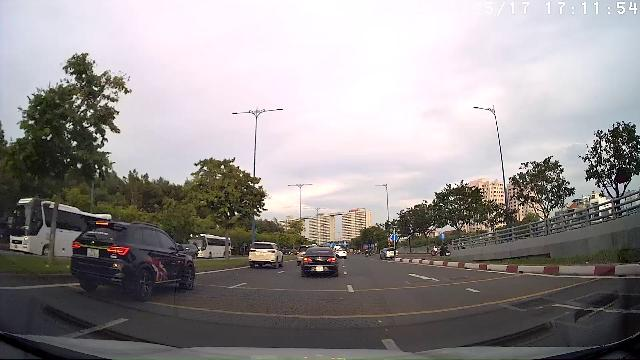301a-cac-xe-chi-duoc-di-thang: (391, 234, 398, 241), (439, 233, 446, 239)
